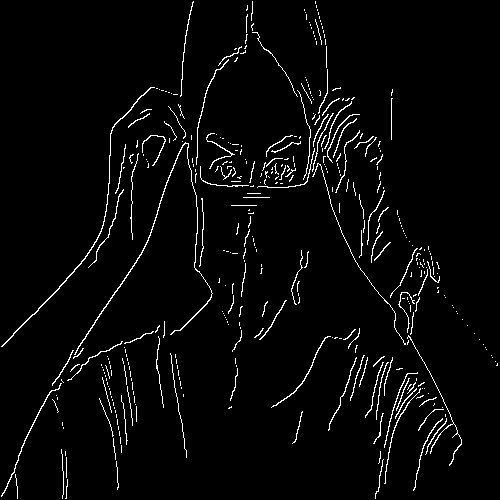mask: (187, 169, 337, 341)
